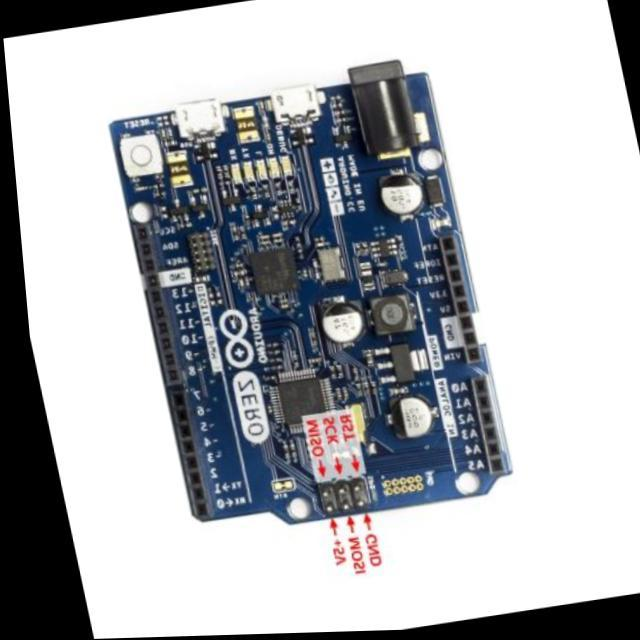Arduino-Zero: (110, 62, 512, 574)
